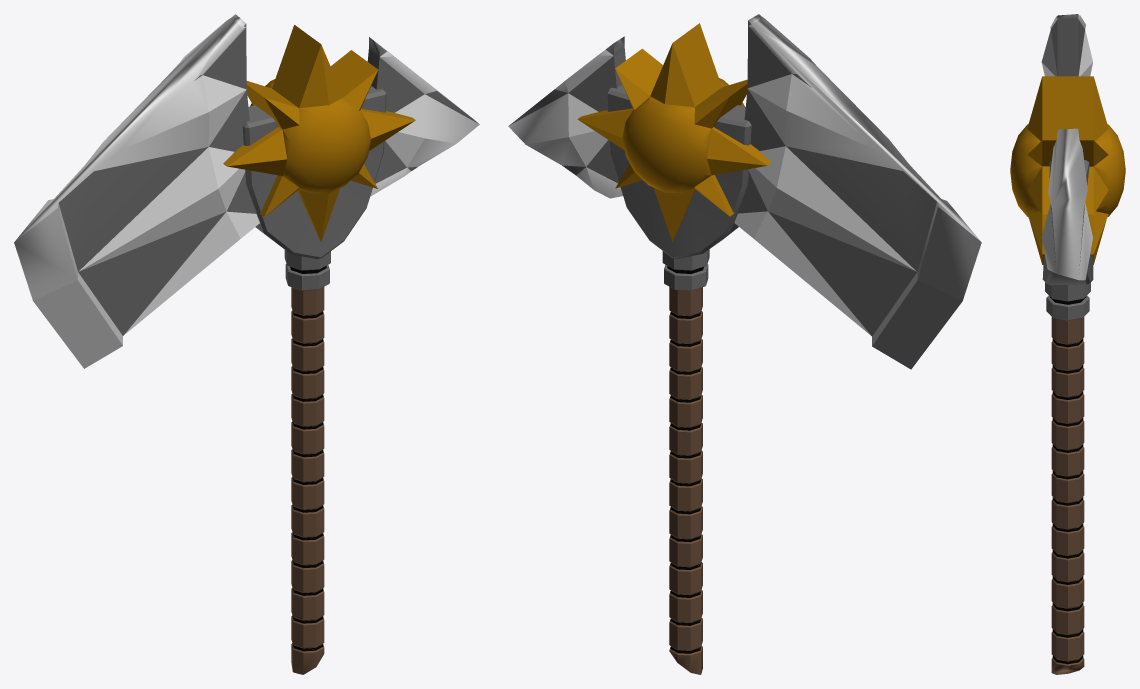
The model's file is Axe3_Broken.fbx.
The picture shows the model from 3 angles, left to right: view 1: azimuth 30°, elevation 25°; view 2: azimuth 150°, elevation 25°; view 3: azimuth 270°, elevation 25°; orthographic projection. The views are drawn at different scales.
Parts seen in each view (by area): view 1: pSphere7, pSphere6, pCylinder11, pSphere8, pCube34; view 2: pSphere7, pSphere6, pCylinder11, pSphere8, pCube34; view 3: pCylinder11, pSphere6, pSphere8, pSphere7, pCube34.
Boxes of the visible parts, box(x1,y1,x2,y2) form: pSphere7: box(14, 14, 259, 368); pSphere6: box(223, 25, 415, 241); pCylinder11: box(284, 250, 330, 674); pSphere8: box(367, 37, 479, 196); pCube34: box(242, 86, 386, 258); pSphere7: box(734, 14, 981, 369); pSphere6: box(577, 23, 771, 241); pCylinder11: box(662, 249, 709, 674); pSphere8: box(508, 36, 625, 198); pCube34: box(606, 85, 751, 258); pCylinder11: box(1045, 282, 1090, 674); pSphere6: box(1010, 76, 1125, 264); pSphere8: box(1041, 128, 1092, 280); pSphere7: box(1041, 14, 1092, 76); pCube34: box(1042, 160, 1093, 285).
Size of the model in its own units: 222 by 304 by 50.11.
